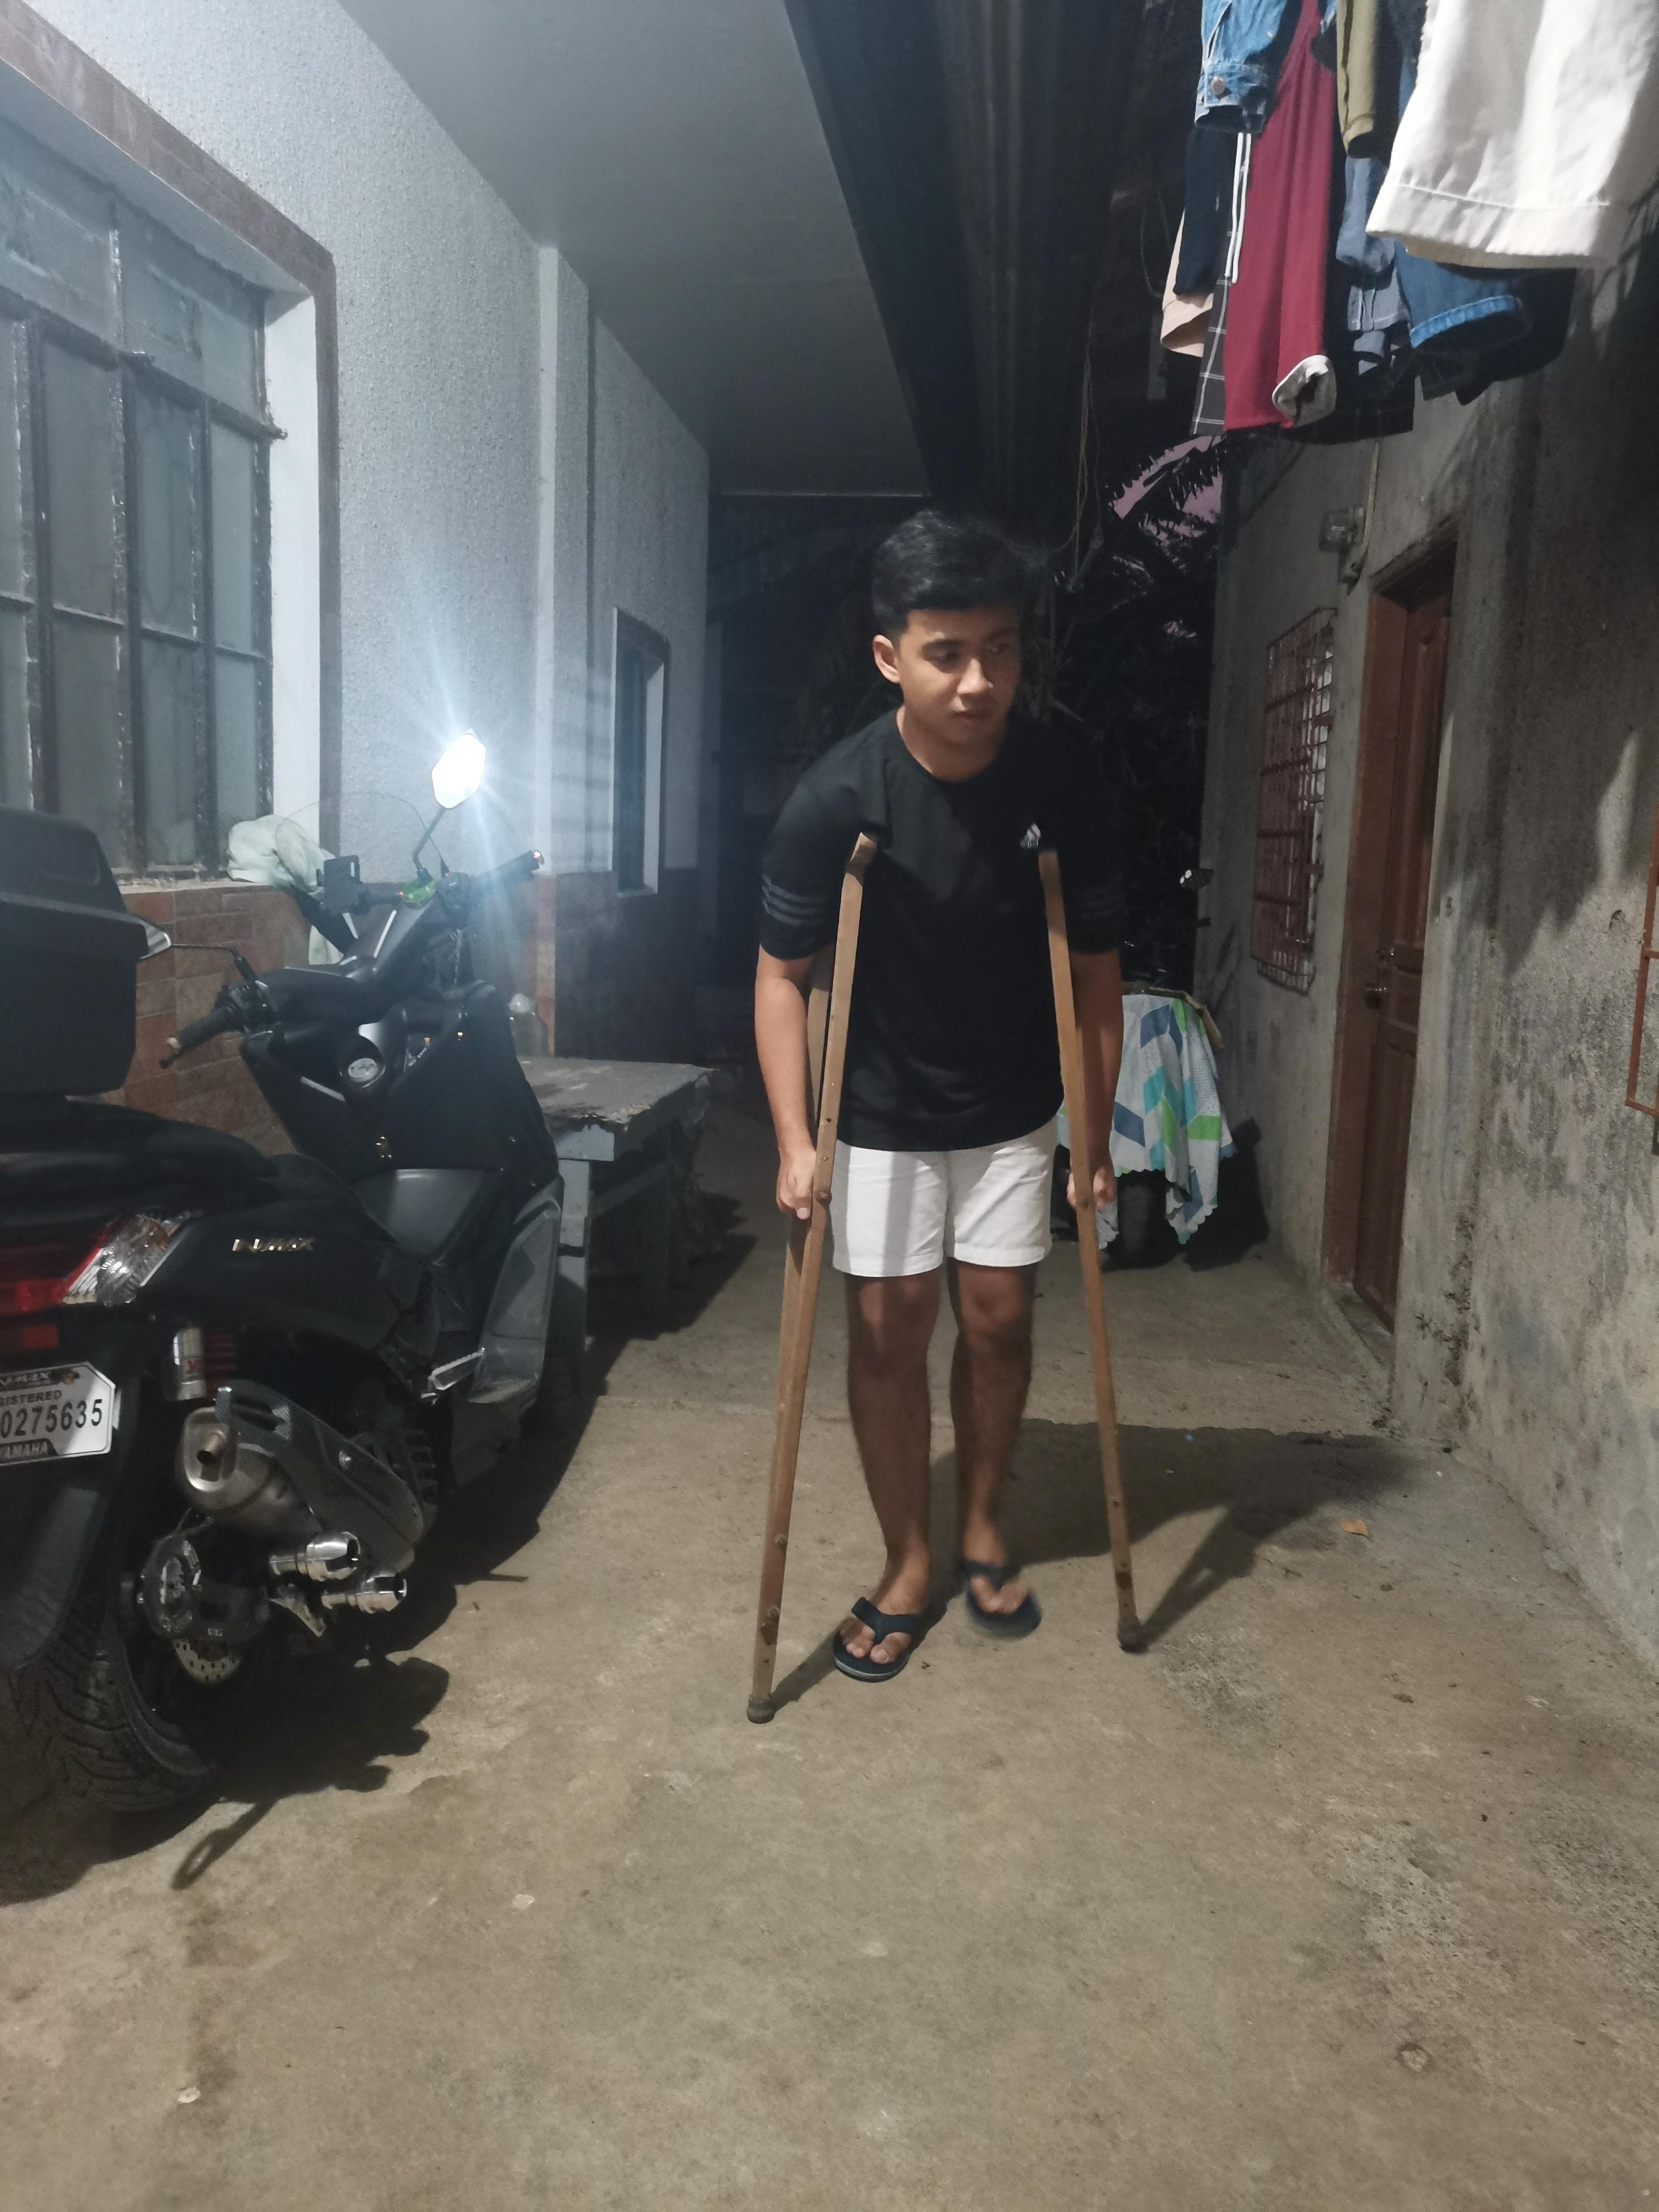crutches: (744, 510, 1143, 1719)
